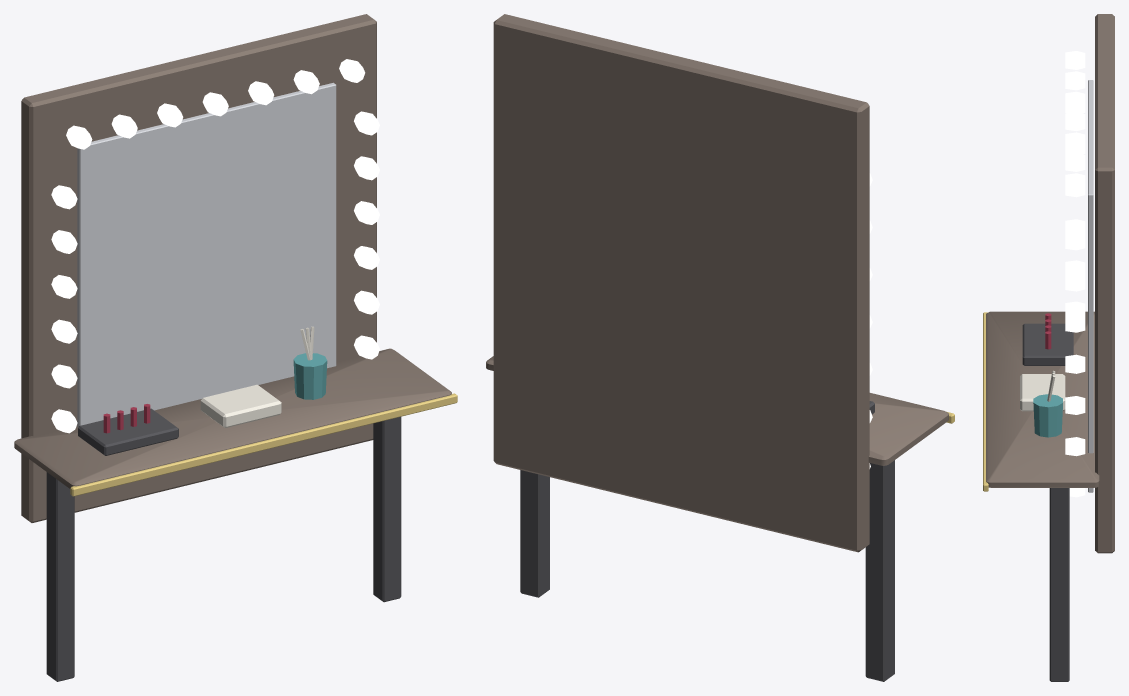
The model's file is theatre-stage-and-backstage-dressing-room-mirror-stati-97cf3af1.glb.
The picture shows the model from 3 angles, left to right: view 1: azimuth 30°, elevation 25°; view 2: azimuth 150°, elevation 25°; view 3: azimuth 270°, elevation 25°; orthographic projection. The views are drawn at different scales.
Visible parts, largest first — view 1: dressing-room-mirror-station; view 2: dressing-room-mirror-station; view 3: dressing-room-mirror-station.
Boxes of the visible parts, x1=… form: dressing-room-mirror-station: x1=14, y1=14, x2=457, y2=681; dressing-room-mirror-station: x1=486, y1=14, x2=954, y2=681; dressing-room-mirror-station: x1=983, y1=14, x2=1114, y2=681.
Size of the model in its own units: 1.44 by 2 by 0.4651.
